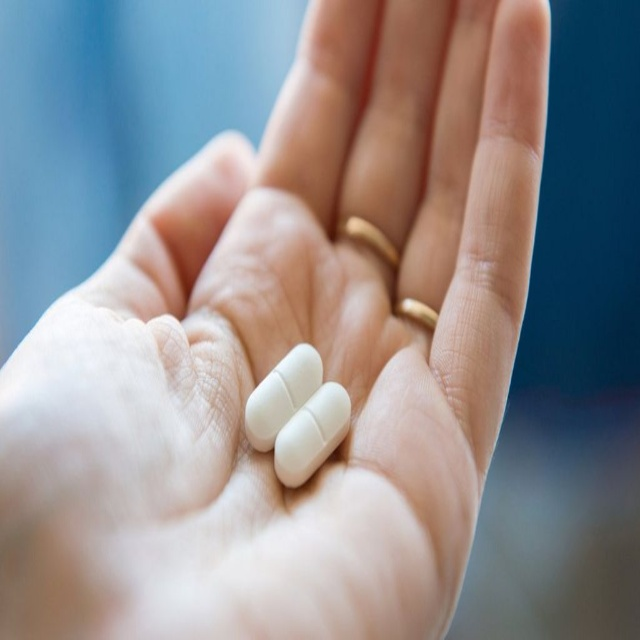pill: (433, 341, 566, 438), (393, 306, 518, 406)
